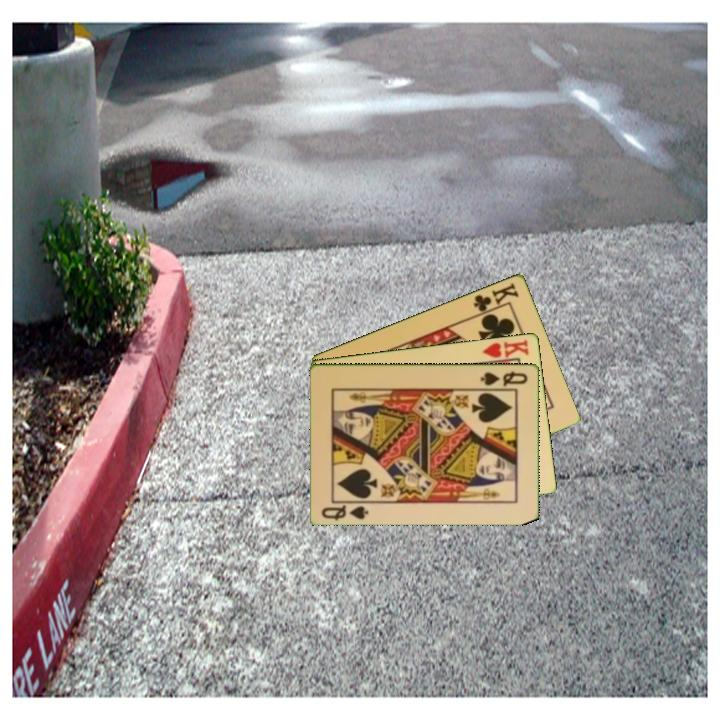Kc: (470, 279, 522, 318)
Kh: (478, 336, 532, 365)
Qs: (318, 501, 372, 523), (477, 368, 531, 389)
